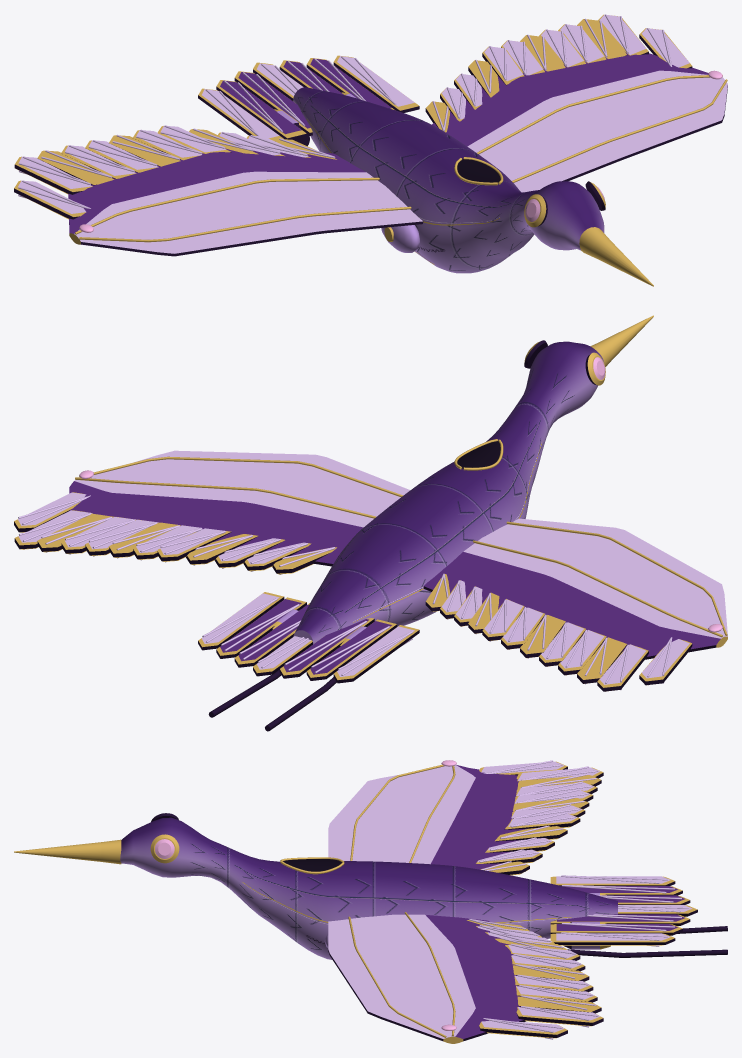
3 views of the same model, one above another, from view 1: azimuth 30°, elevation 25°; view 2: azimuth 150°, elevation 25°; view 3: azimuth 270°, elevation 25° (orthographic). The views are drawn at different scales.
Visible parts, largest first — view 1: egret_hull; view 2: egret_hull; view 3: egret_hull.
Part boxes in pixels (box(x1,y1,x2,y2)): egret_hull: box(14, 14, 727, 286); egret_hull: box(14, 315, 727, 731); egret_hull: box(14, 760, 727, 1043).
Size of the model in its own units: 36.2 by 8.4 by 40.
Materials: 1 (1 with a texture image).
